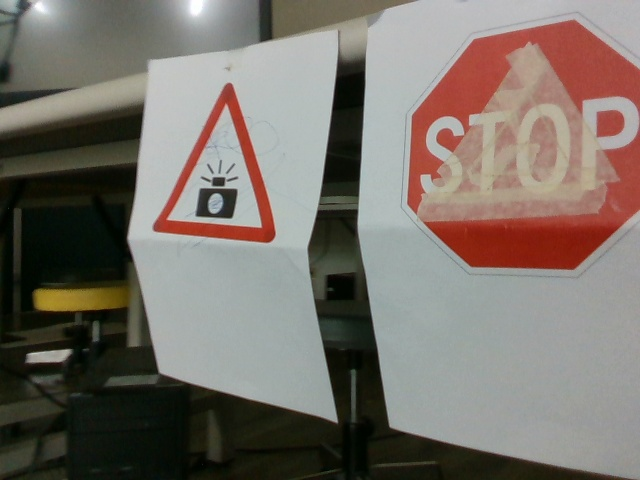camera: (148, 81, 279, 248)
stop: (396, 15, 640, 277)
